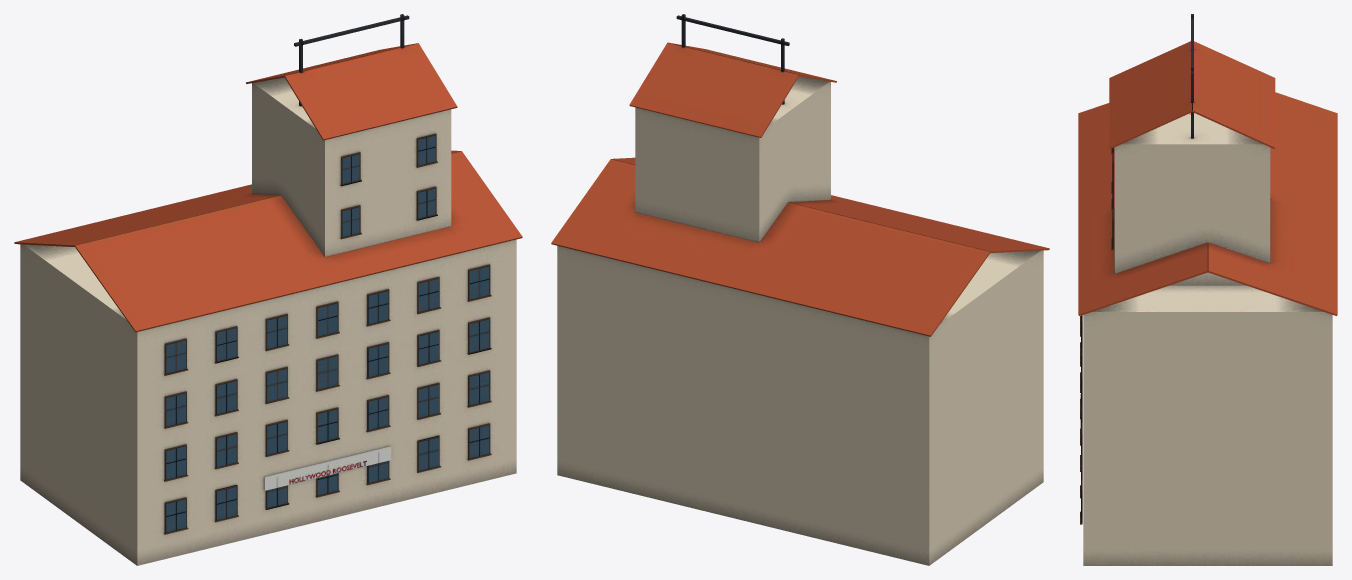
Rendered from hotel_roosevelt.glb.
3 renders of one model, left to right at view 1: azimuth 30°, elevation 25°; view 2: azimuth 150°, elevation 25°; view 3: azimuth 270°, elevation 25°, orthographic. The views are drawn at different scales.
Visible parts, largest first — view 1: hotel_roosevelt; view 2: hotel_roosevelt; view 3: hotel_roosevelt.
Boxes of the visible parts, x1,y1,x2,y2 form: hotel_roosevelt: (14,14,522,565); hotel_roosevelt: (551,14,1049,565); hotel_roosevelt: (1078,14,1337,565).
Bounding box in the file's own units: 30.6 × 33 × 16.64.
1 material, 1 textured.
